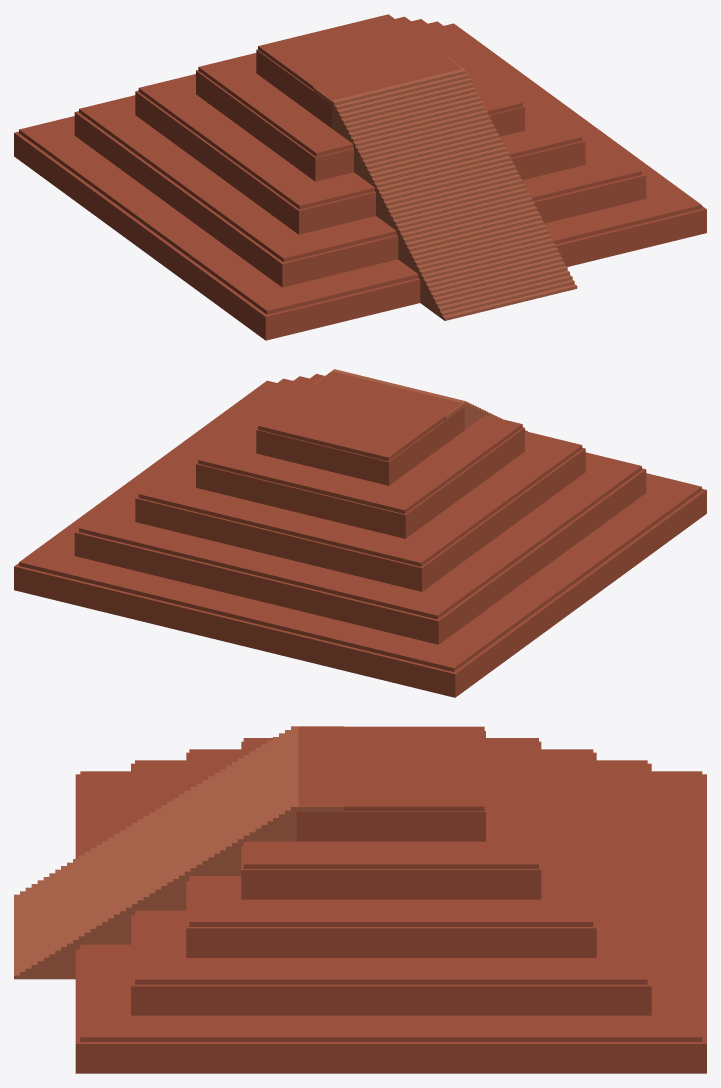
Rendered from meso-teo-moon.glb.
3 views of the same model, one above another, from view 1: azimuth 30°, elevation 25°; view 2: azimuth 150°, elevation 25°; view 3: azimuth 270°, elevation 25° (orthographic). The views are drawn at different scales.
Visible parts, largest first — view 1: meso-body, meso-stair; view 2: meso-body, meso-stair; view 3: meso-body, meso-stair.
Part boxes in pixels (bbox=[...]): meso-body: bbox=[14, 14, 706, 340]; meso-stair: bbox=[313, 55, 577, 320]; meso-body: bbox=[14, 371, 706, 697]; meso-stair: bbox=[313, 369, 527, 431]; meso-body: bbox=[75, 726, 706, 1073]; meso-stair: bbox=[14, 726, 343, 979].
Size of the model in its own units: 145 by 43.02 by 157.
